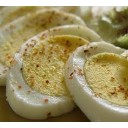begg: (1, 4, 70, 117), (74, 41, 128, 118)
